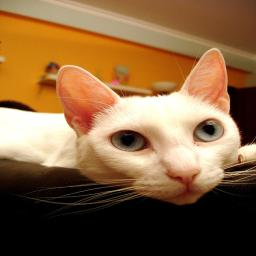catnose: (165, 163, 205, 187)
